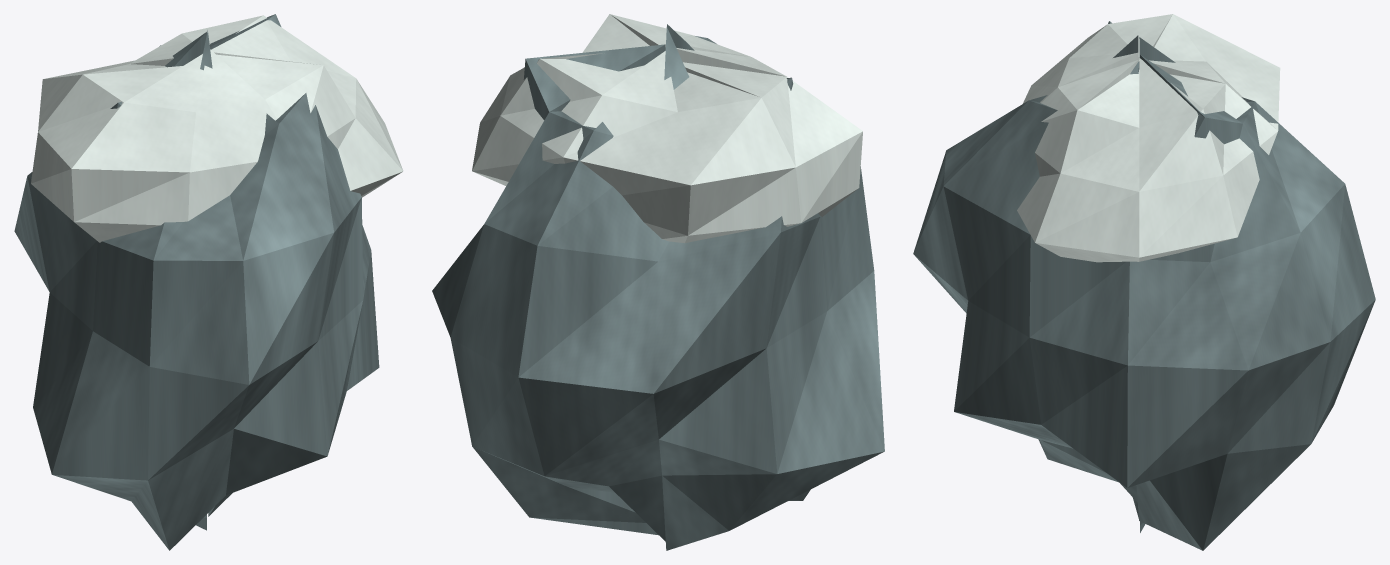
Rendered from snow_rock_01.glb.
3 renders of one model, left to right at view 1: azimuth 30°, elevation 25°; view 2: azimuth 150°, elevation 25°; view 3: azimuth 270°, elevation 25°, orthographic. The views are drawn at different scales.
Parts seen in each view (by area): view 1: rock, snow_cap; view 2: rock, snow_cap; view 3: rock, snow_cap.
Boxes of the visible parts, x1,y1,x2,y2 form: rock: (14, 14, 379, 550); snow_cap: (31, 15, 403, 242); rock: (432, 24, 884, 550); snow_cap: (472, 14, 862, 243); rock: (913, 21, 1375, 550); snow_cap: (1017, 14, 1280, 262).
Size of the model in its own units: 3.6 by 4.8 by 4.04.
Materials: 2 (2 with a texture image).
